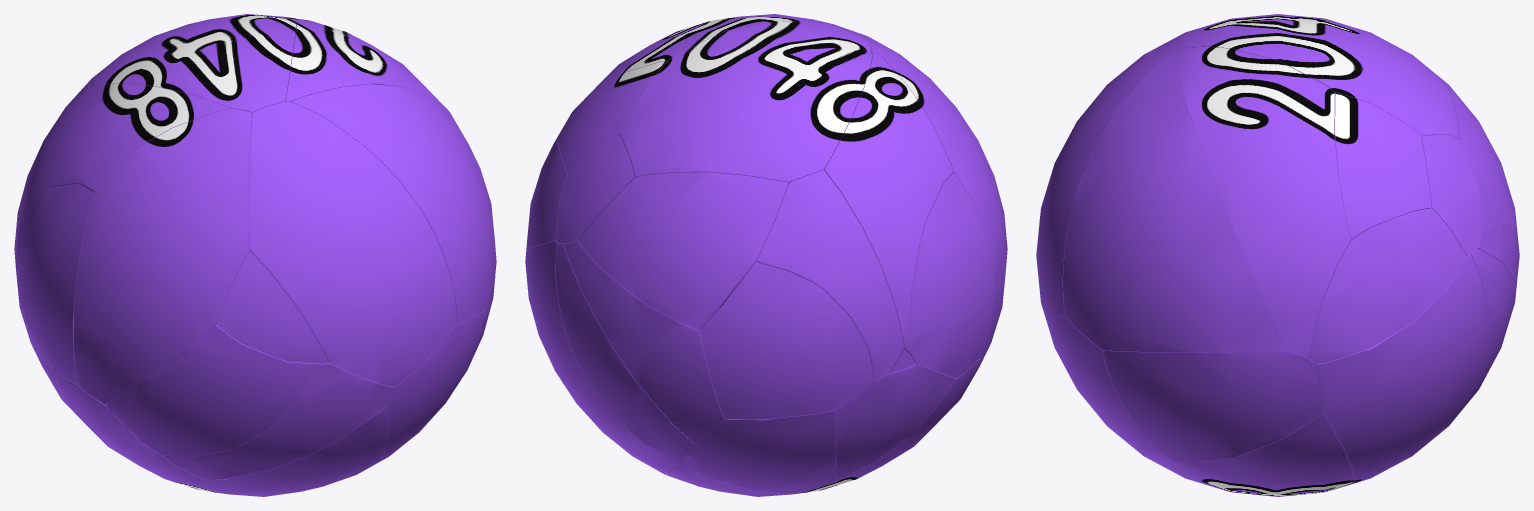
File: ball_parts.fbx
3 renders of one model, left to right at view 1: azimuth 30°, elevation 25°; view 2: azimuth 150°, elevation 25°; view 3: azimuth 270°, elevation 25°, orthographic.
Parts seen in each view (by area): view 1: ball.001_cell, ball.001_cell.001, ball.001_cell.033, ball.001_cell.039, ball.001_cell.027, ball.001_cell.019, ball.001_cell.026, ball.001_cell.013, ball.001_cell.014, ball.001_cell.006, ball.001_cell.024, ball.001_cell.022 (+3 smaller); view 2: ball.001_cell.027, ball.001_cell.029, ball.001_cell.007, ball.001_cell.019, ball.001_cell.031, ball.001_cell.026, ball.001_cell.034, ball.001_cell.005, ball.001_cell.018, ball.001_cell.002, ball.001_cell.001, ball.001_cell.012 (+6 smaller); view 3: ball.001_cell.033, ball.001_cell.006, ball.001_cell.012, ball.001_cell.009, ball.001_cell.027, ball.001_cell.016, ball.001_cell.025, ball.001_cell, ball.001_cell.020, ball.001_cell.022, ball.001_cell.010, ball.001_cell.029 (+2 smaller).
Boxes of the visible parts, x1=… form: ball.001_cell: x1=249, y1=101, x2=456, y2=386; ball.001_cell.001: x1=73, y1=108, x2=252, y2=404; ball.001_cell.033: x1=291, y1=84, x2=496, y2=323; ball.001_cell.039: x1=106, y1=324, x2=322, y2=457; ball.001_cell.027: x1=88, y1=14, x2=296, y2=113; ball.001_cell.019: x1=15, y1=83, x2=231, y2=301; ball.001_cell.026: x1=16, y1=183, x2=93, y2=384; ball.001_cell.013: x1=162, y1=362, x2=395, y2=478; ball.001_cell.014: x1=216, y1=251, x2=329, y2=363; ball.001_cell.006: x1=285, y1=19, x2=449, y2=112; ball.001_cell.024: x1=201, y1=406, x2=386, y2=496; ball.001_cell.022: x1=379, y1=312, x2=483, y2=461; ball.001_cell.027: x1=620, y1=21, x2=871, y2=182; ball.001_cell.029: x1=577, y1=172, x2=788, y2=330; ball.001_cell.007: x1=700, y1=262, x2=873, y2=419; ball.001_cell.019: x1=823, y1=48, x2=953, y2=366; ball.001_cell.031: x1=749, y1=170, x2=904, y2=383; ball.001_cell.026: x1=911, y1=173, x2=994, y2=377; ball.001_cell.034: x1=563, y1=240, x2=724, y2=443; ball.001_cell.005: x1=680, y1=410, x2=835, y2=493; ball.001_cell.018: x1=555, y1=243, x2=693, y2=462; ball.001_cell.002: x1=834, y1=364, x2=955, y2=479; ball.001_cell.001: x1=868, y1=41, x2=1007, y2=359; ball.001_cell.012: x1=525, y1=240, x2=692, y2=474; ball.001_cell.033: x1=1063, y1=52, x2=1288, y2=352; ball.001_cell.006: x1=1175, y1=46, x2=1351, y2=358; ball.001_cell.012: x1=1315, y1=254, x2=1492, y2=483; ball.001_cell.009: x1=1102, y1=350, x2=1323, y2=462; ball.001_cell.027: x1=1177, y1=14, x2=1459, y2=139; ball.001_cell.016: x1=1309, y1=208, x2=1466, y2=363; ball.001_cell.025: x1=1335, y1=92, x2=1431, y2=239; ball.001_cell: x1=1036, y1=39, x2=1180, y2=319; ball.001_cell.020: x1=1171, y1=414, x2=1353, y2=496; ball.001_cell.022: x1=1046, y1=315, x2=1184, y2=477; ball.001_cell.010: x1=1421, y1=134, x2=1483, y2=256; ball.001_cell.029: x1=1436, y1=74, x2=1515, y2=228.
Size of the model in its own units: 2 by 2 by 2.
